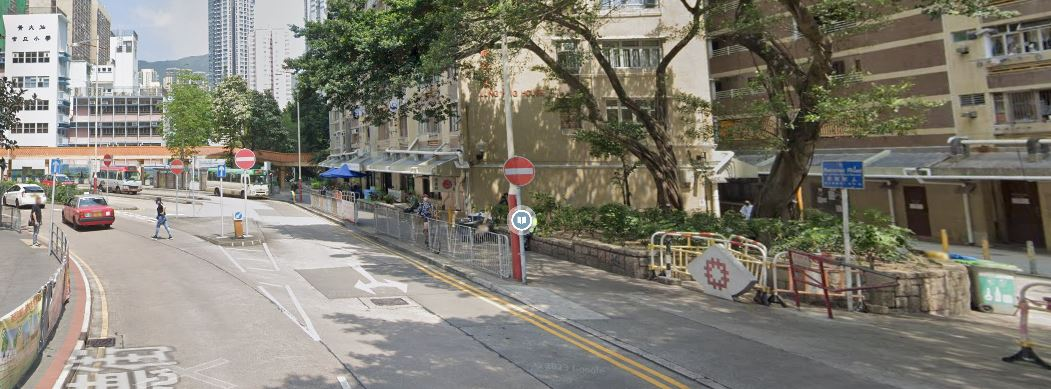No Enter: (504, 155, 537, 187), (235, 149, 256, 170), (170, 159, 186, 175), (103, 154, 112, 167)
One Way Traffic: (51, 159, 60, 174), (217, 164, 226, 178)
